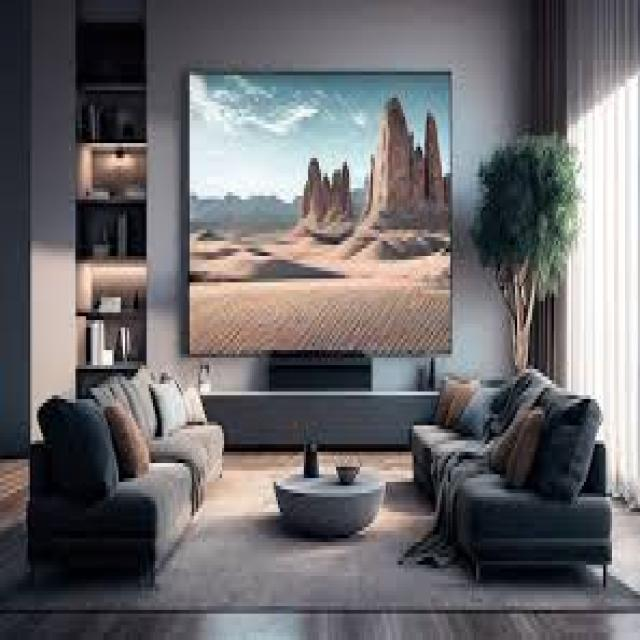Sofa: (27, 355, 225, 595), (412, 372, 612, 590)
Table: (268, 444, 390, 548)
tv: (187, 70, 453, 358)
window: (555, 1, 640, 368)
